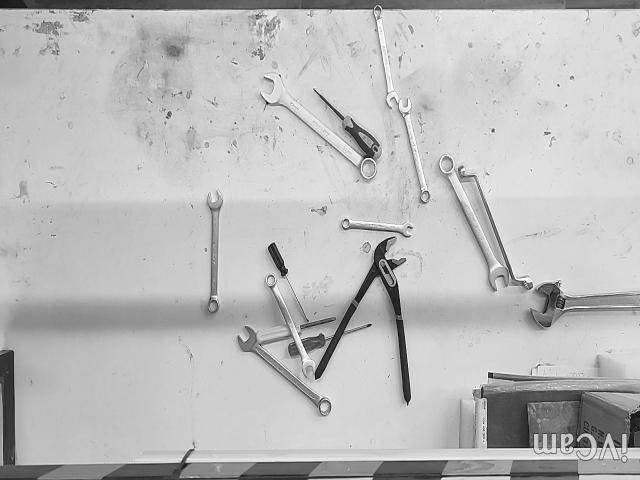Adjustable spanner: (531, 279, 640, 328)
Gas wrench: (315, 236, 411, 405)
Screwdriver: (314, 86, 381, 161), (267, 242, 309, 323), (288, 324, 372, 356), (256, 317, 335, 345)
Wrench: (261, 73, 376, 183), (439, 155, 509, 292), (458, 165, 533, 291), (238, 325, 332, 415), (266, 274, 316, 381), (398, 97, 430, 203), (374, 5, 399, 109), (207, 190, 224, 313), (341, 217, 413, 237)
